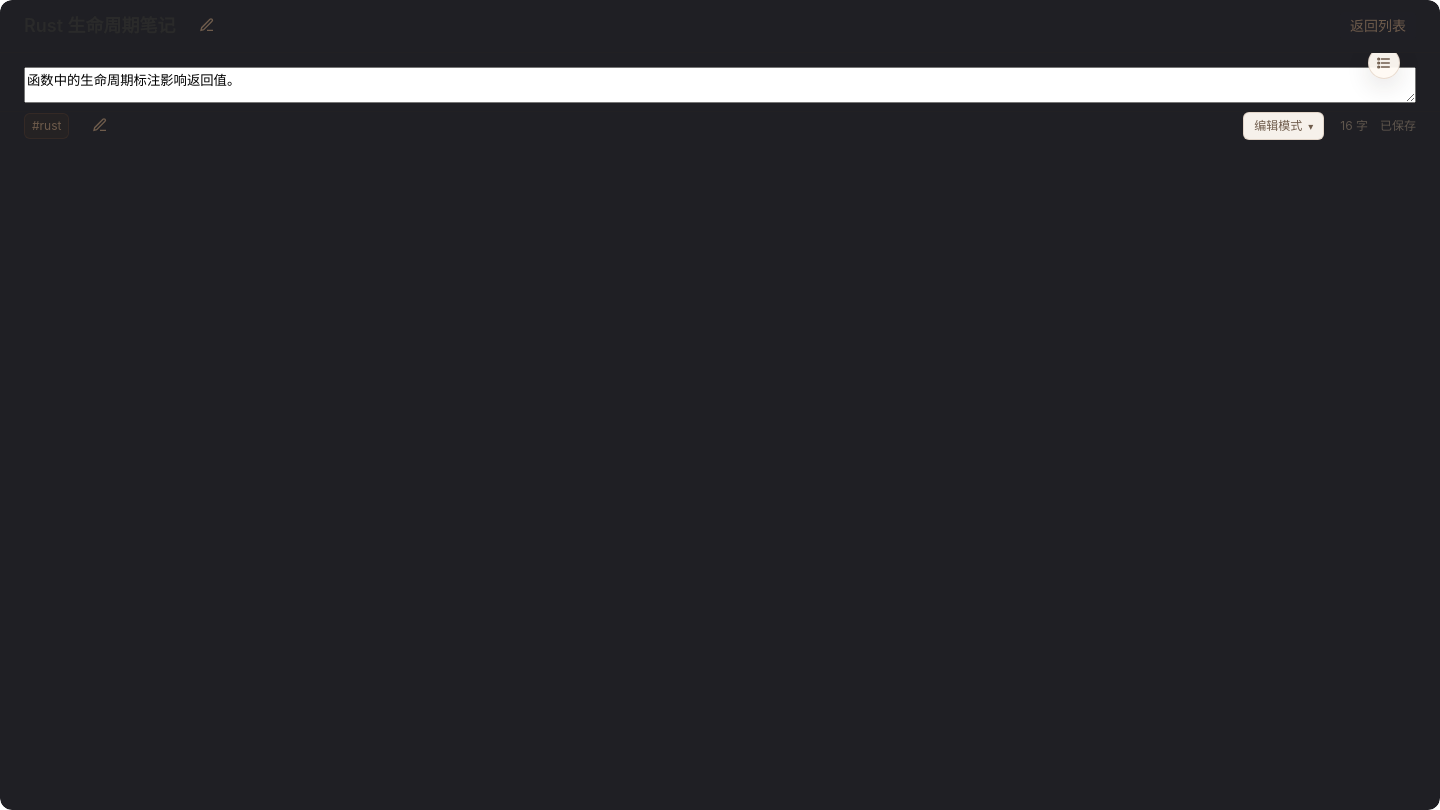
Test case: NoteEditorView › edits document tags as one single-line input per row from the tag dialog
Click the button with test id "note-tags-edit": click(92, 126) [78, 112, 106, 140]
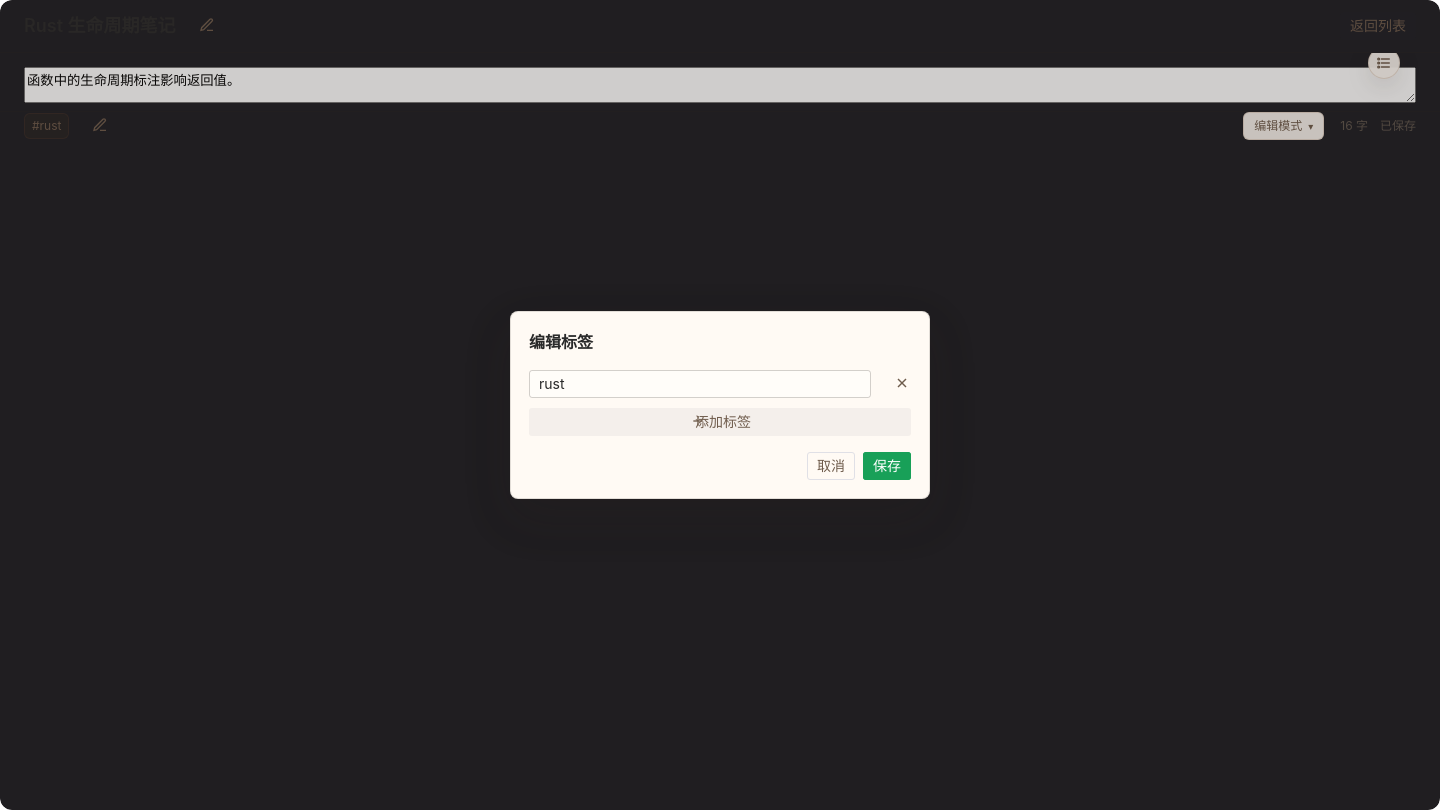
Expected: the dialog shows "编辑标签", [529, 332, 593, 352]
Expected: the field holds "rust"
Replace the text in the field with "rust-updated": (700, 384) [539, 370, 861, 398]
Click the button with test id "note-tag-add": click(720, 422) [529, 408, 911, 436]
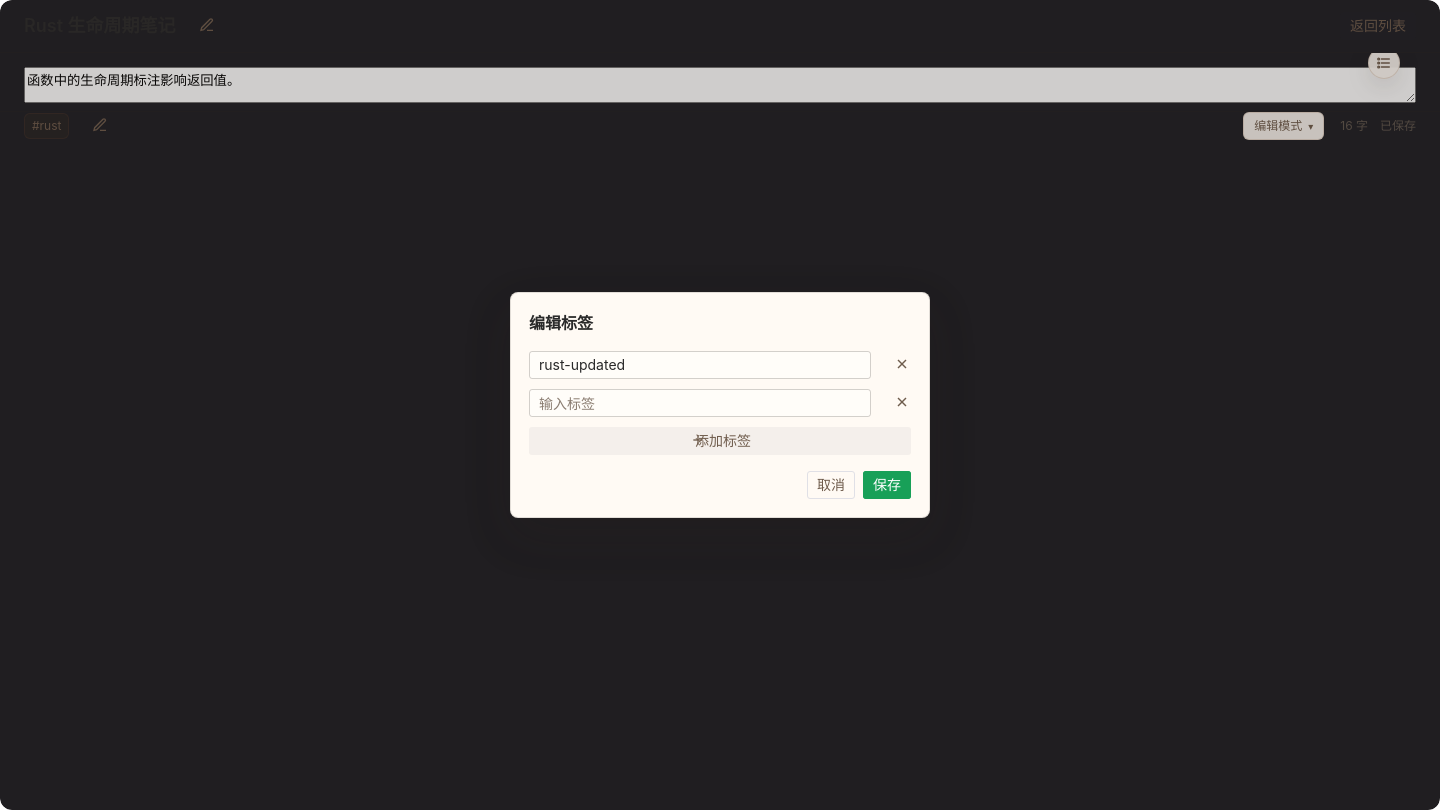
In the field with placeholder "输入标签": (700, 403) [539, 389, 861, 417], type "vue"
Click the button with test id "note-tag-delete-1": click(893, 403) [879, 389, 907, 417]
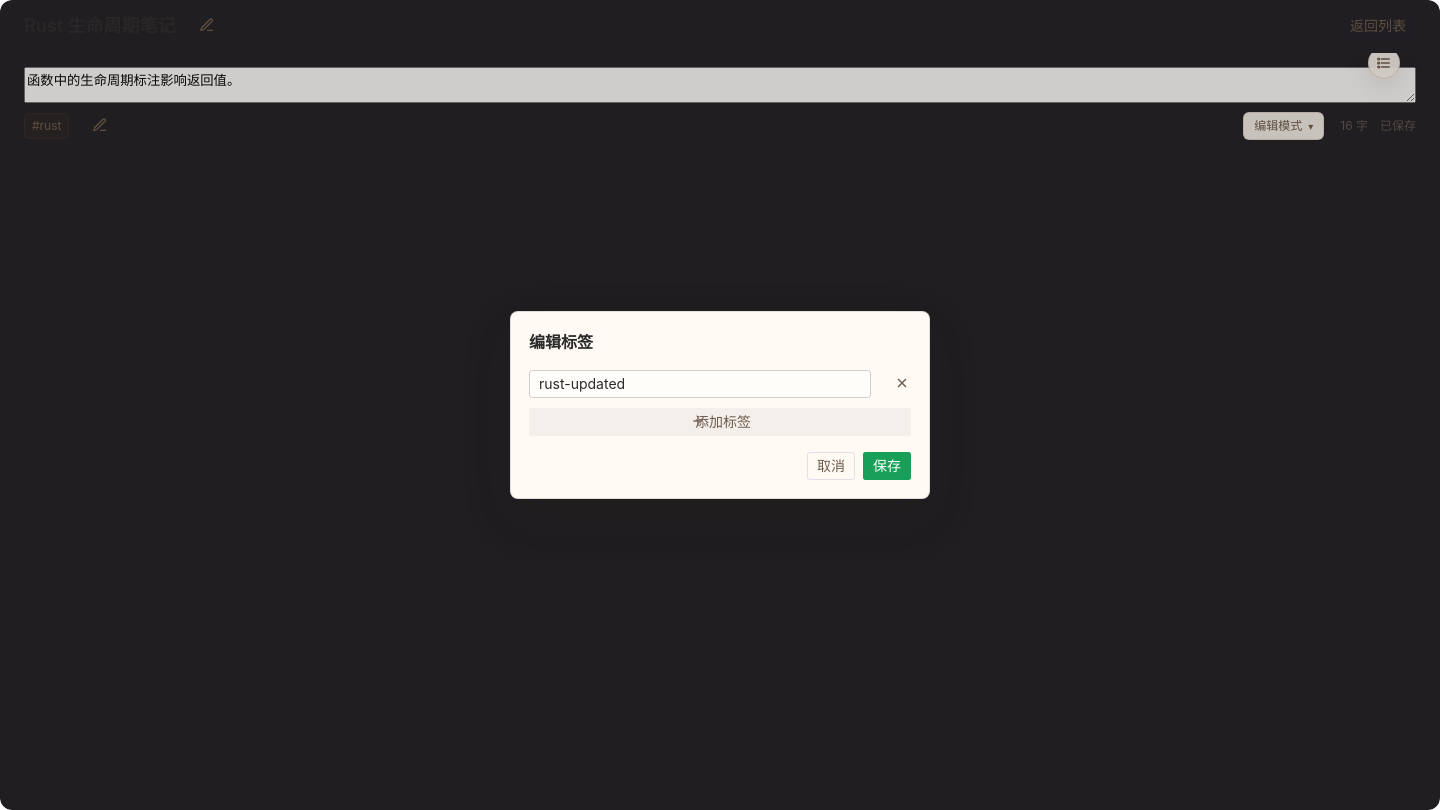
Click the button with test id "note-tag-add": click(720, 422) [529, 408, 911, 436]
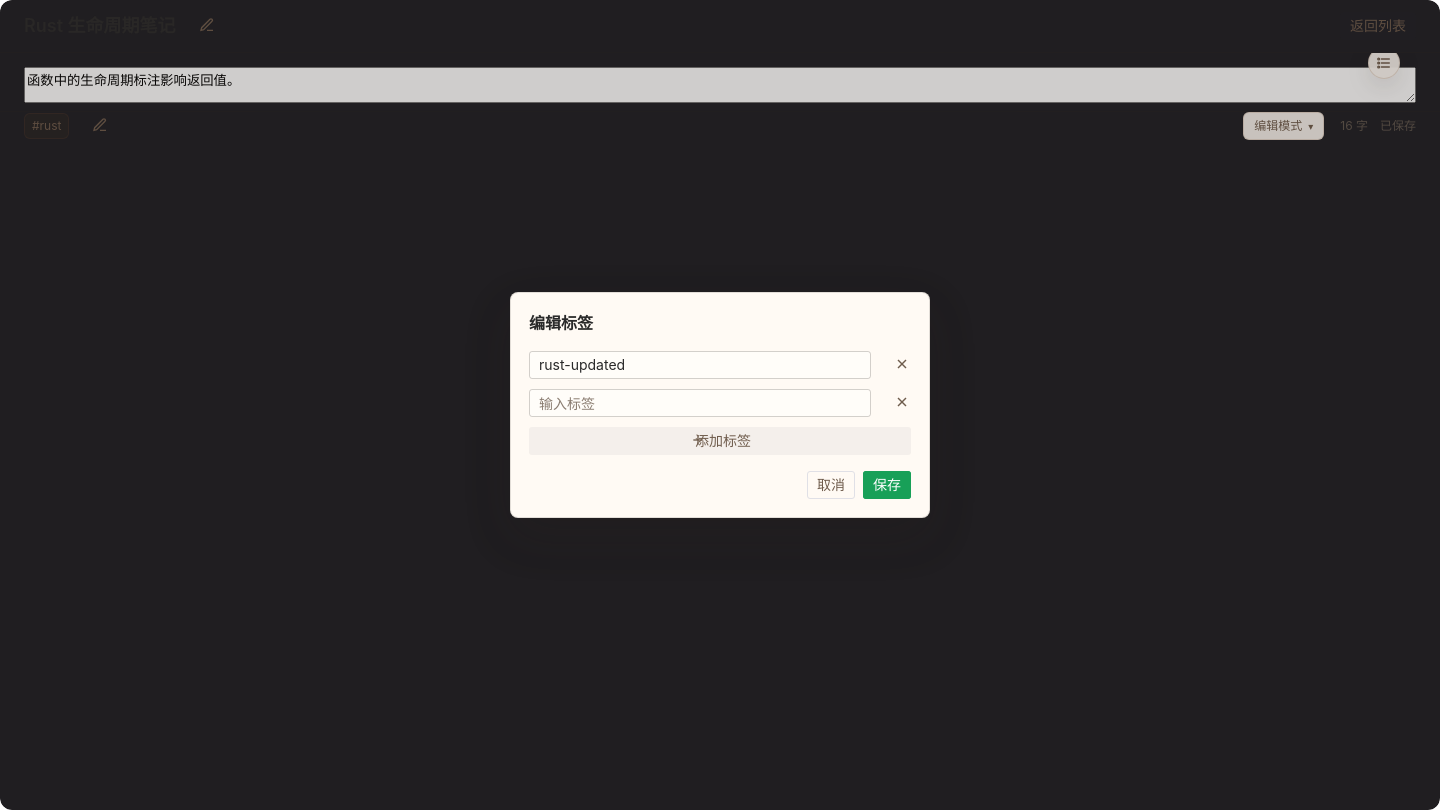
In the field with placeholder "输入标签": (700, 403) [539, 389, 861, 417], type "标签"
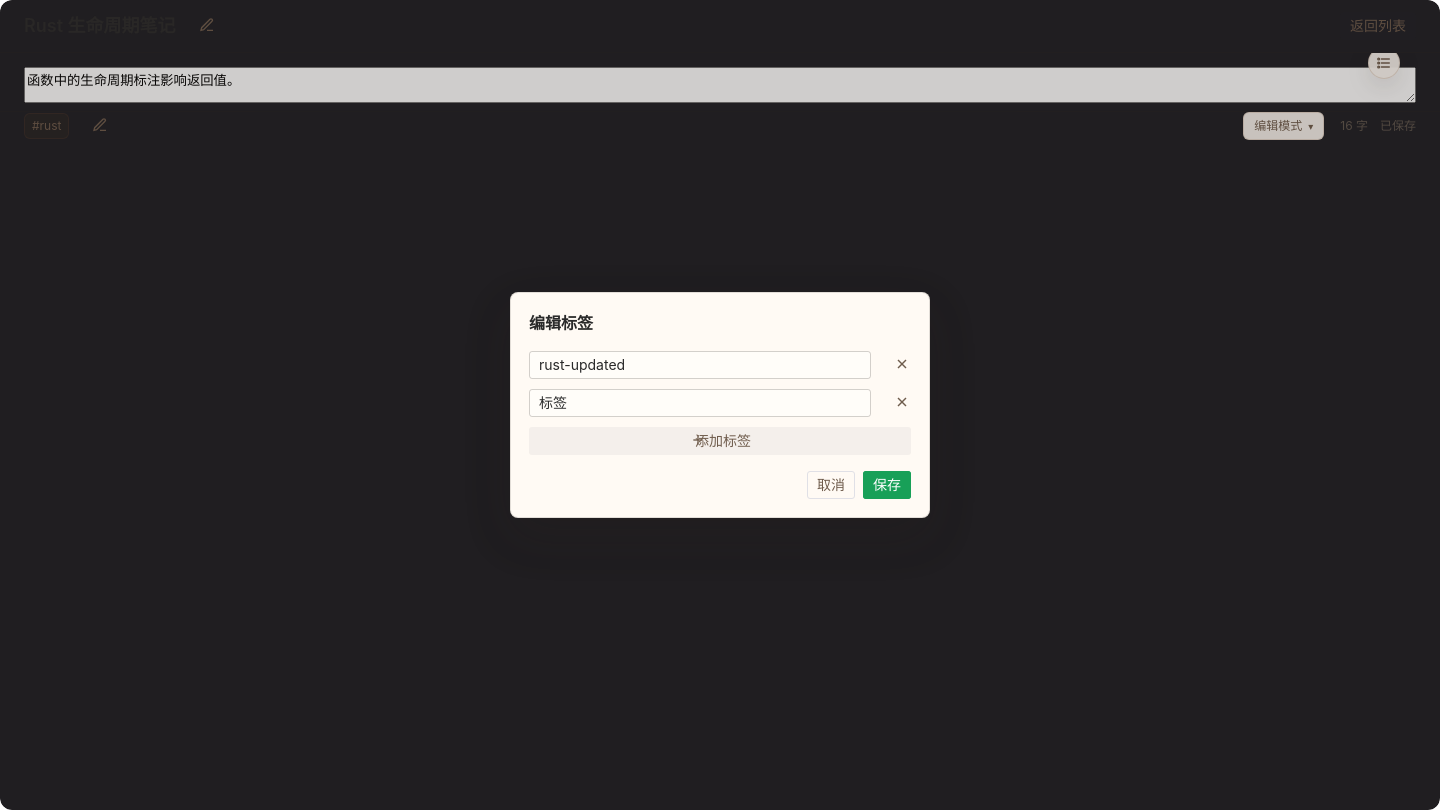
Click the button with test id "note-tags-confirm": click(887, 485) [863, 471, 911, 499]
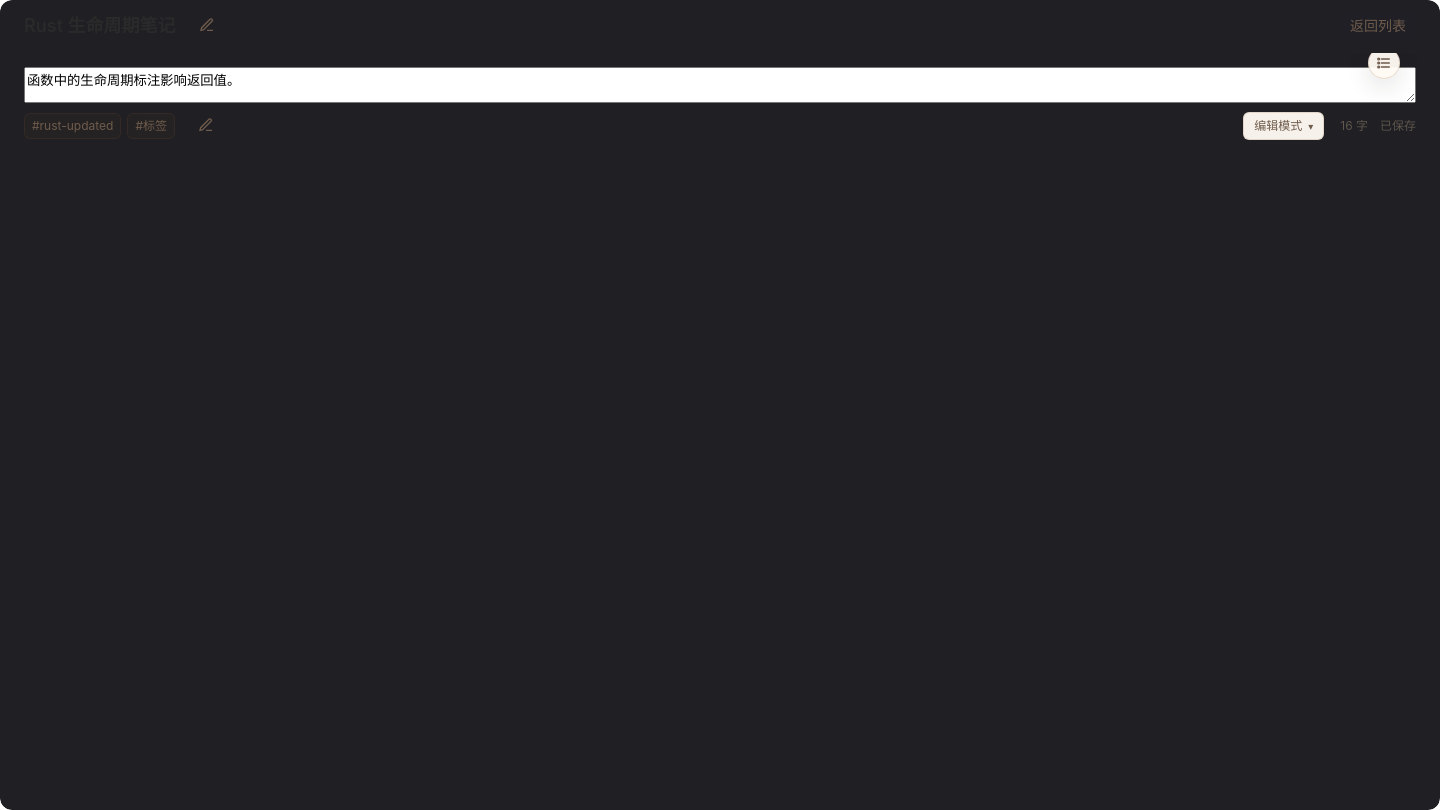
Expected: the element with class "note-editor-footer-tags" shows "#rust-updated", [32, 118, 114, 133]
Expected: the element with class "note-editor-footer-tags" shows "#标签", [136, 118, 167, 133]
